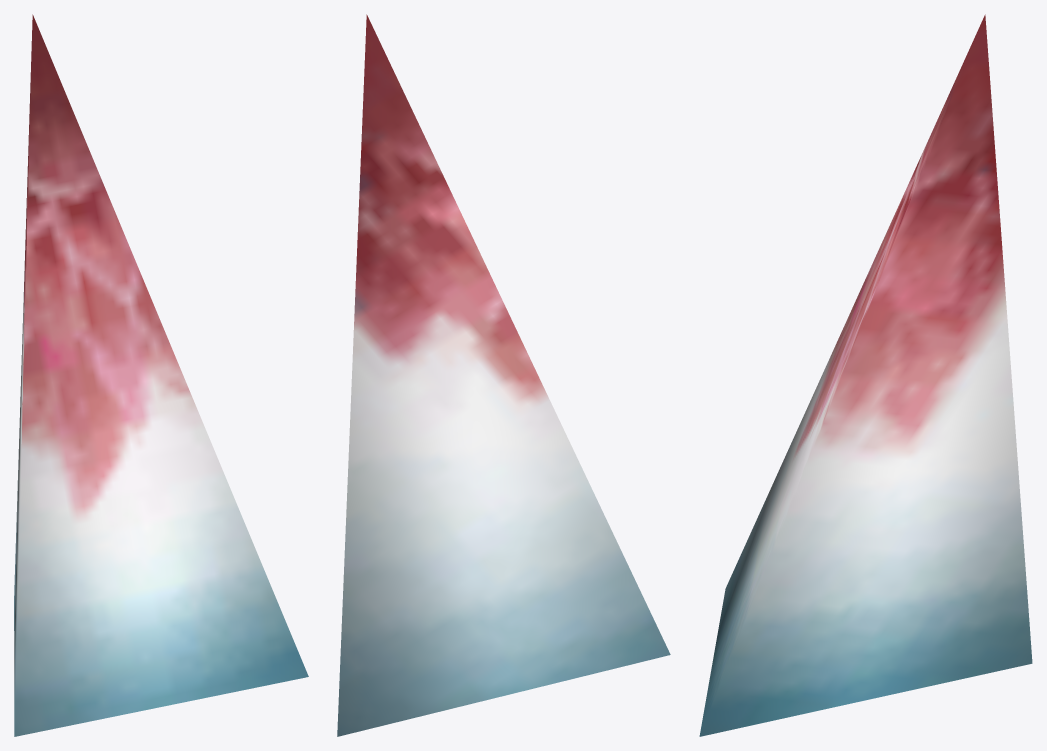
Rendered from environment_common_xuedizawu_001_b.FBX.
3 renders of one model, left to right at view 1: azimuth 30°, elevation 25°; view 2: azimuth 150°, elevation 25°; view 3: azimuth 270°, elevation 25°, orthographic. The views are drawn at different scales.
Parts seen in each view (by area): view 1: environment_common_xuedizawu_001_b; view 2: environment_common_xuedizawu_001_b; view 3: environment_common_xuedizawu_001_b.
Part boxes in pixels (x1,y1,x2,y2): environment_common_xuedizawu_001_b: (14,14,308,736); environment_common_xuedizawu_001_b: (337,14,670,736); environment_common_xuedizawu_001_b: (699,14,1032,736).
Size of the model in its own units: 36.7 by 74.68 by 34.79.
